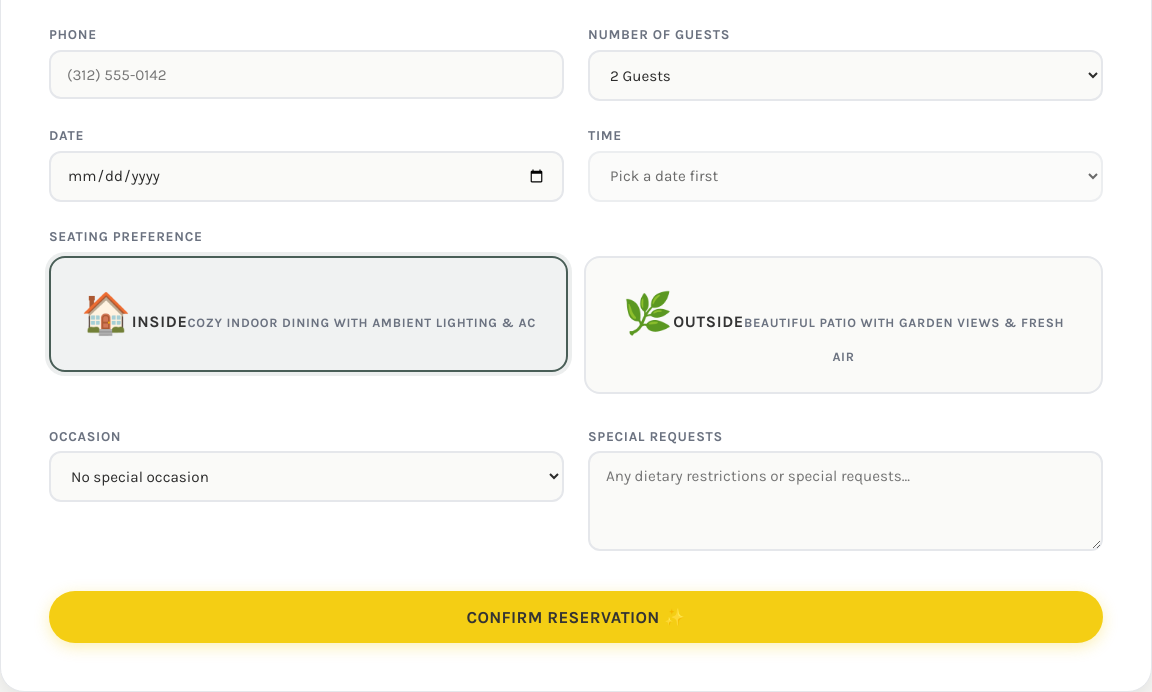
Test: BookingForm › clears error when user types in field
(page scrolled)
// Submit to trigger errors
Click the button "Confirm Reservation ✨": [576, 617] box [49,591,1103,643]
(page scrolled)
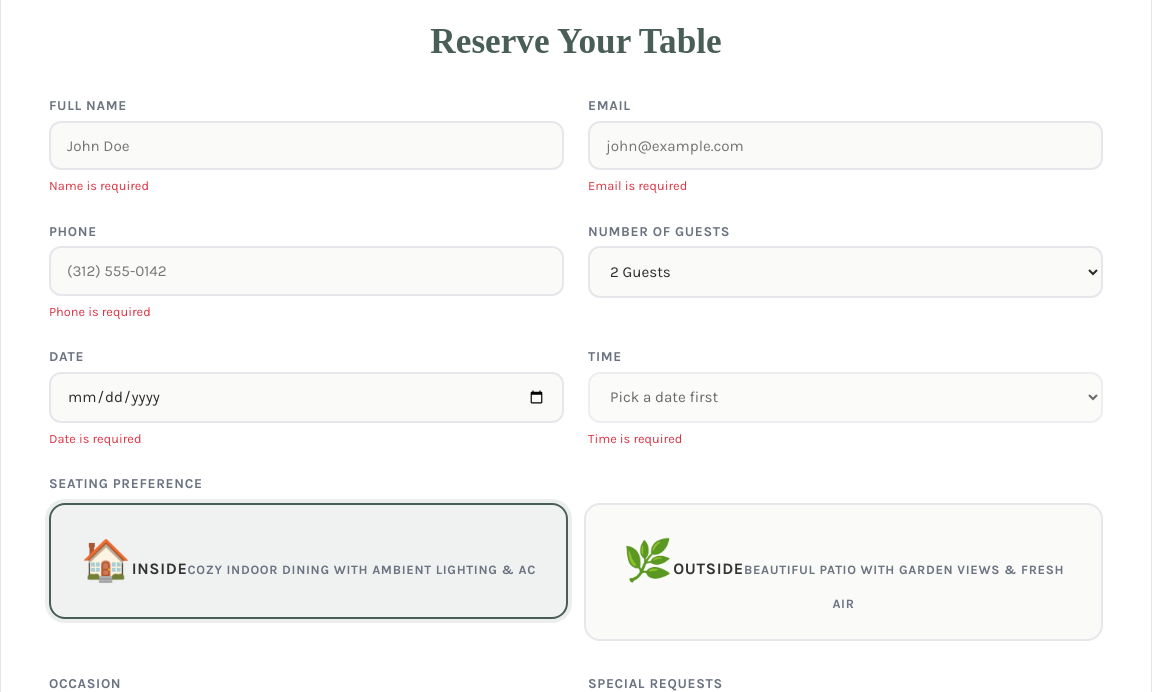
Expected: the text "Name is required" is shown, [49,178,149,193]
// Type in name field to clear error
In the field labelled "Full Name": [306, 146] box [49,121,564,170], type "John"
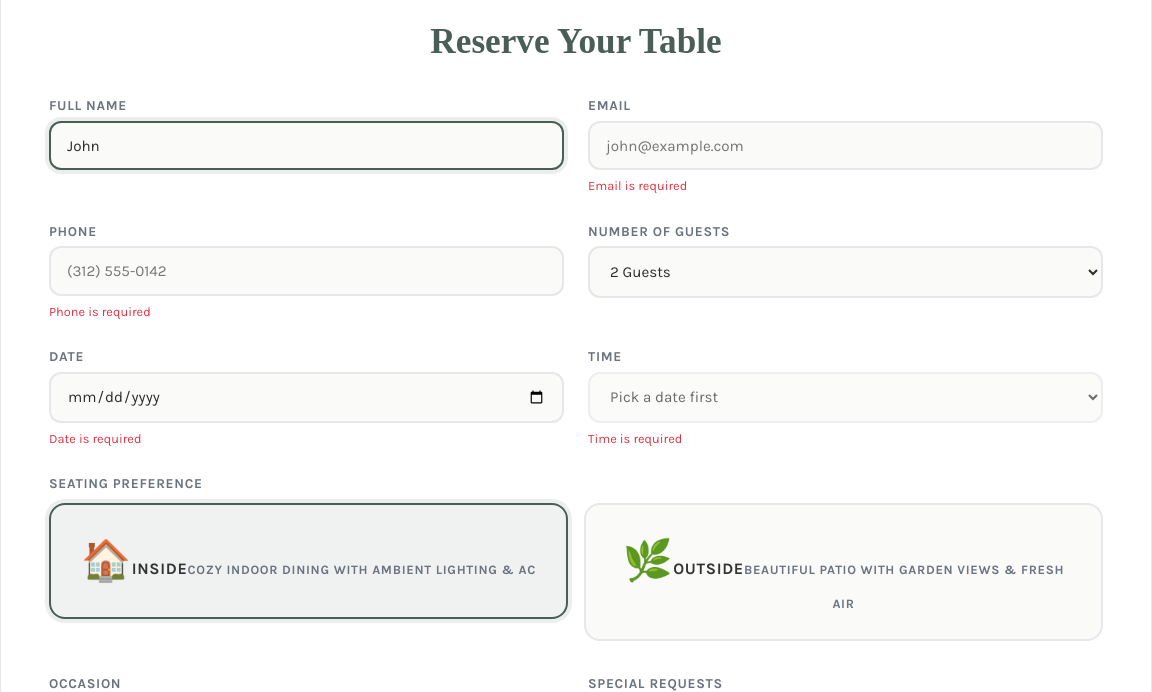
Expected: the text "Name is required" is gone
